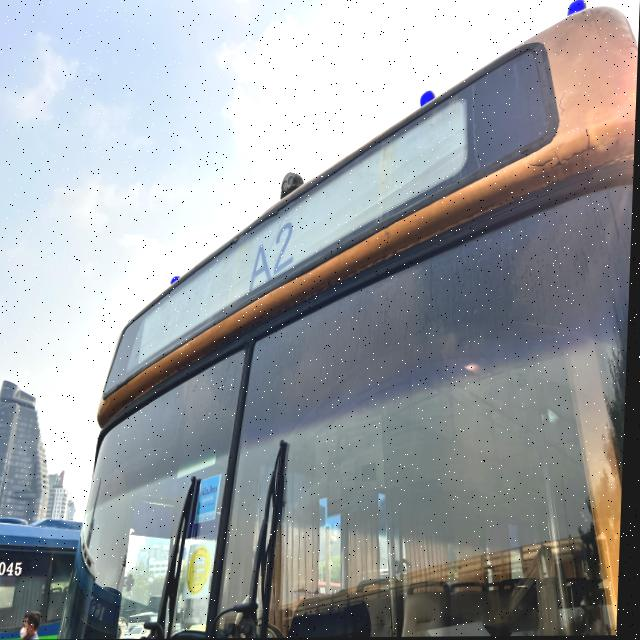BMTA-bus: (67, 3, 640, 639)
Bus-Line-Number: (250, 216, 303, 297)
